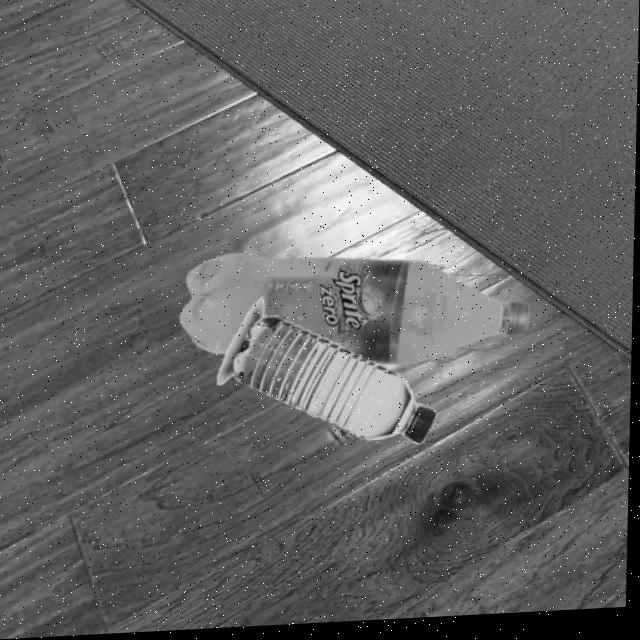bottle: (178, 241, 533, 386), (215, 292, 441, 459)
